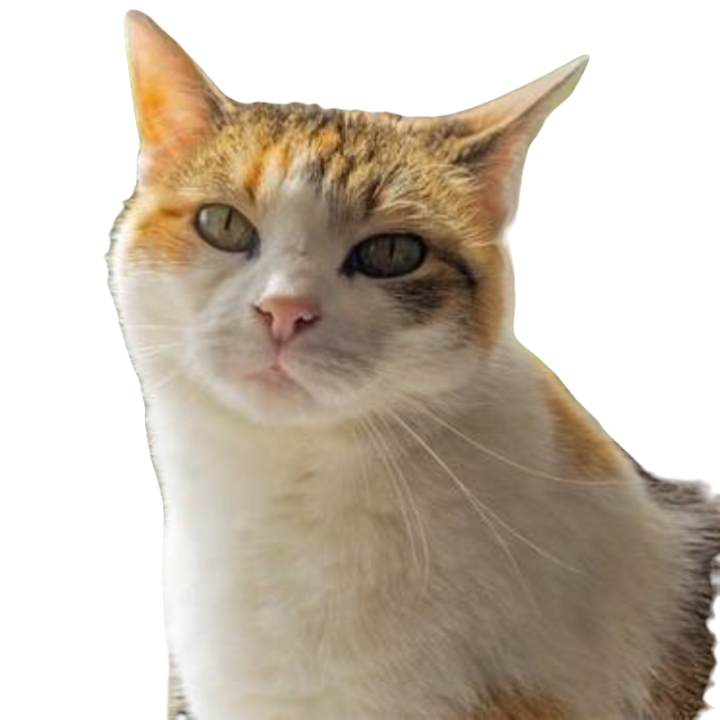Cat: (91, 2, 719, 719)
